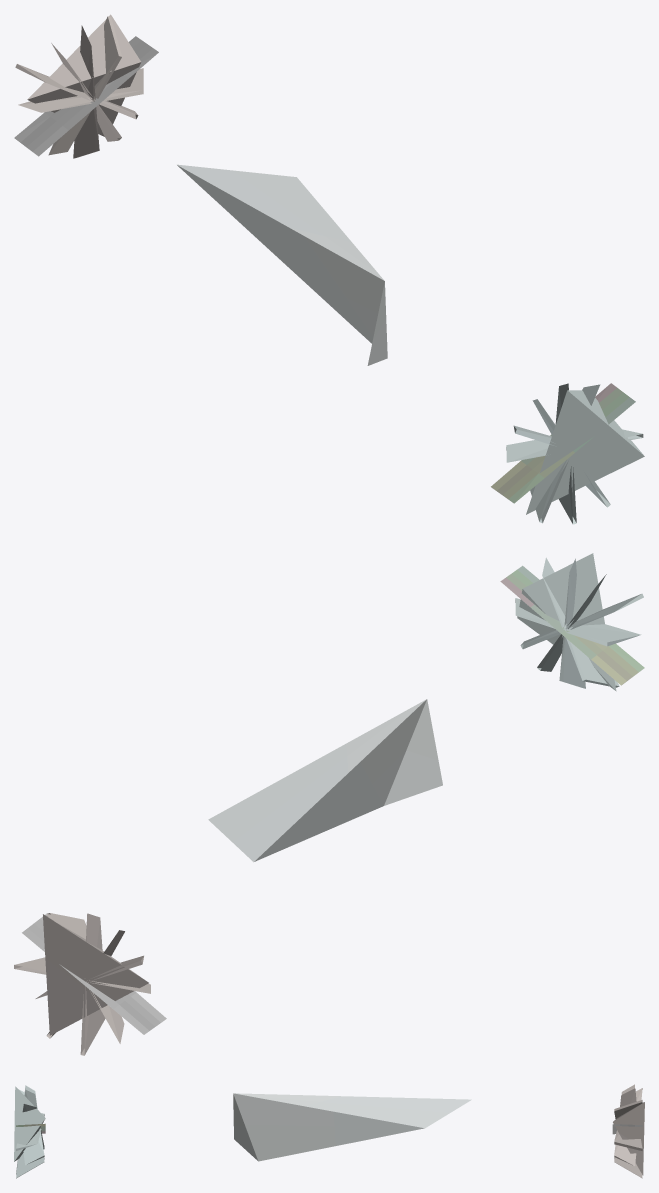
The model's file is zcz003-geode.glb.
3 views of the same model, one above another, from view 1: azimuth 30°, elevation 25°; view 2: azimuth 150°, elevation 25°; view 3: azimuth 270°, elevation 25° (orthographic). The views are drawn at different scales.
Visible parts, largest first — view 1: Node; view 2: Node; view 3: Node.
Boxes of the visible parts, x1,y1,x2,y2 form: Node: (14, 14, 644, 524); Node: (14, 553, 644, 1055); Node: (14, 1084, 644, 1178).
Bounding box in the file's own units: 0.3846 × 0.3846 × 2.56.
Materials: 1 (1 with a texture image).
